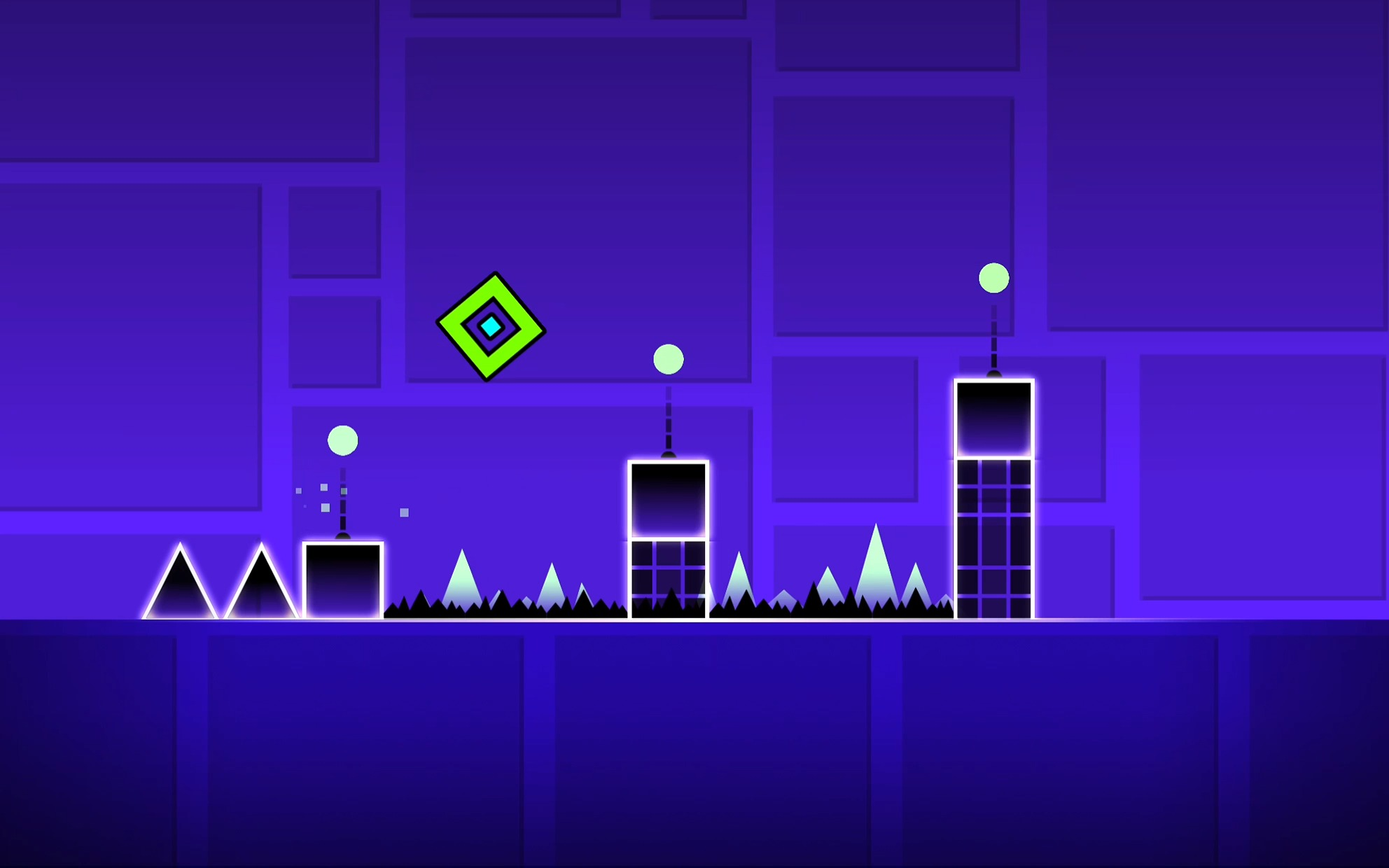Block: (300, 538, 386, 618), (954, 378, 1033, 457), (629, 460, 708, 538)
Block2: (956, 459, 1033, 622), (629, 538, 708, 619), (537, 564, 567, 612)
Player: (436, 272, 545, 380)
Spike: (223, 542, 300, 618), (142, 543, 218, 619)
Spike3: (712, 585, 954, 620), (384, 591, 626, 619)
